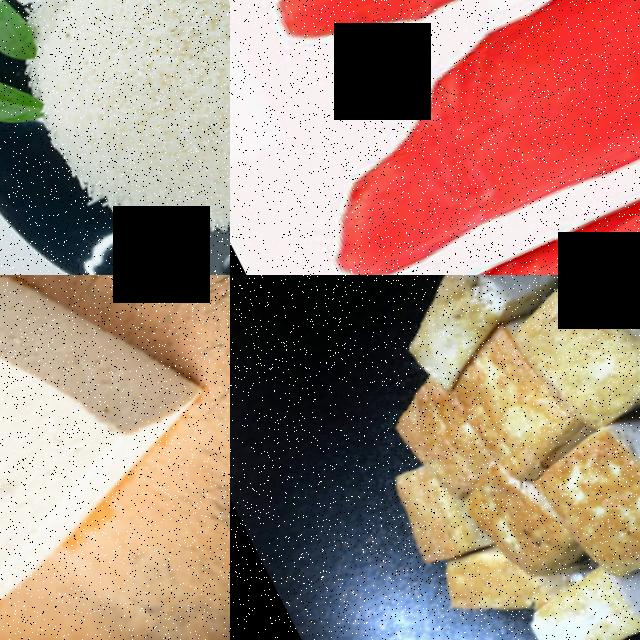tofu: (0, 275, 230, 640), (522, 363, 640, 599), (502, 275, 640, 439), (371, 275, 580, 378), (379, 444, 497, 577), (517, 535, 640, 640)
tuna: (314, 62, 640, 275)
white rice: (23, 0, 230, 270)
